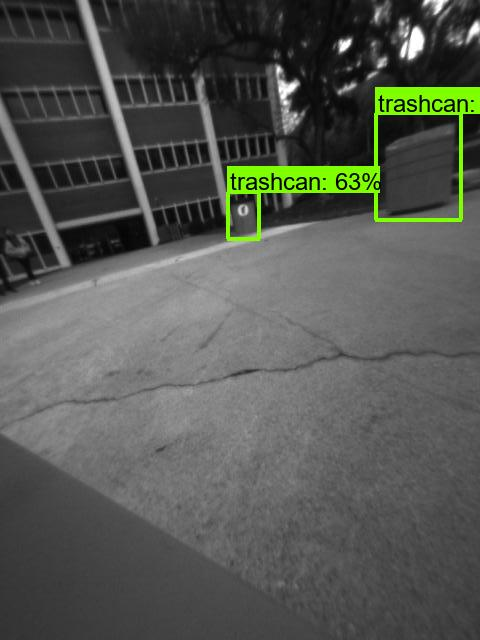trashcan: (382, 120, 457, 218), (227, 198, 261, 234)
